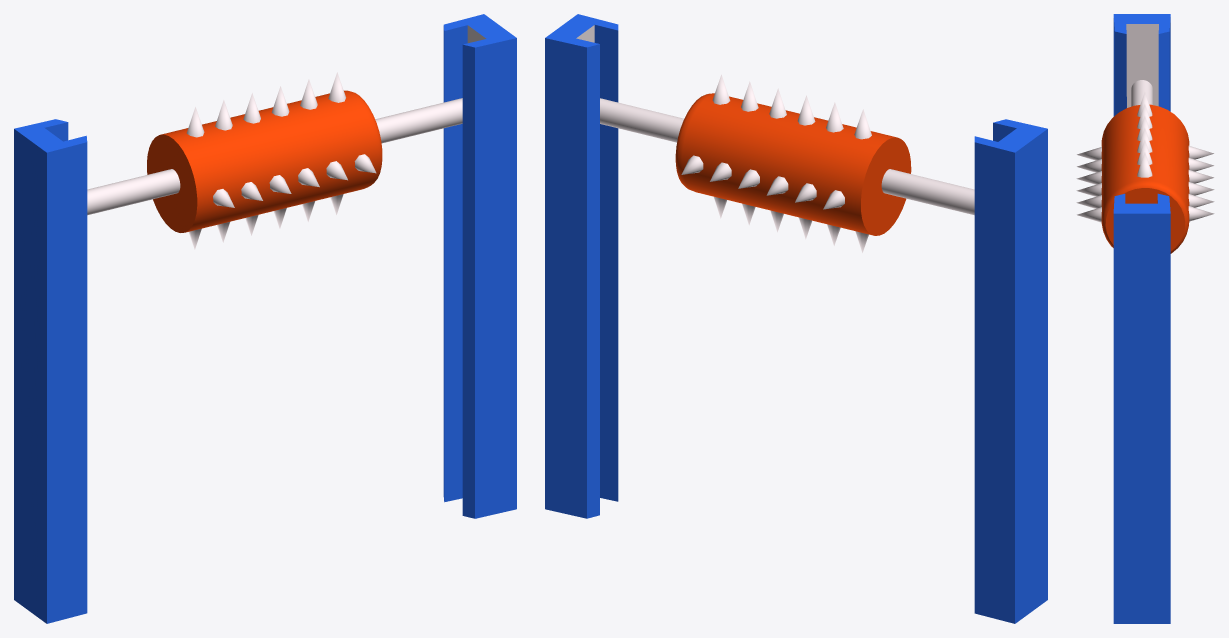
File: pillar cylender move.fbx
3 renders of one model, left to right at view 1: azimuth 30°, elevation 25°; view 2: azimuth 150°, elevation 25°; view 3: azimuth 270°, elevation 25°, orthographic. The views are drawn at different scales.
Visible parts, largest first — view 1: Cube, Cube.001, CylinderObstacle, Cylinder; view 2: Cube, Cube.001, CylinderObstacle, Cylinder; view 3: Cube.001, CylinderObstacle, Cube, Cylinder.
Boxes of the visible parts, x1,y1,x2,y2 form: Cube: [14, 119, 87, 623]; Cube.001: [443, 14, 516, 518]; CylinderObstacle: [147, 72, 382, 249]; Cylinder: [87, 98, 462, 215]; Cube: [974, 119, 1047, 623]; Cube.001: [545, 14, 618, 518]; CylinderObstacle: [675, 74, 911, 252]; Cylinder: [600, 98, 974, 215]; Cube.001: [1113, 193, 1170, 623]; CylinderObstacle: [1076, 92, 1214, 253]; Cube: [1113, 14, 1170, 116]; Cylinder: [1131, 80, 1152, 106].
Size of the model in its own units: 685 by 656 by 201.
